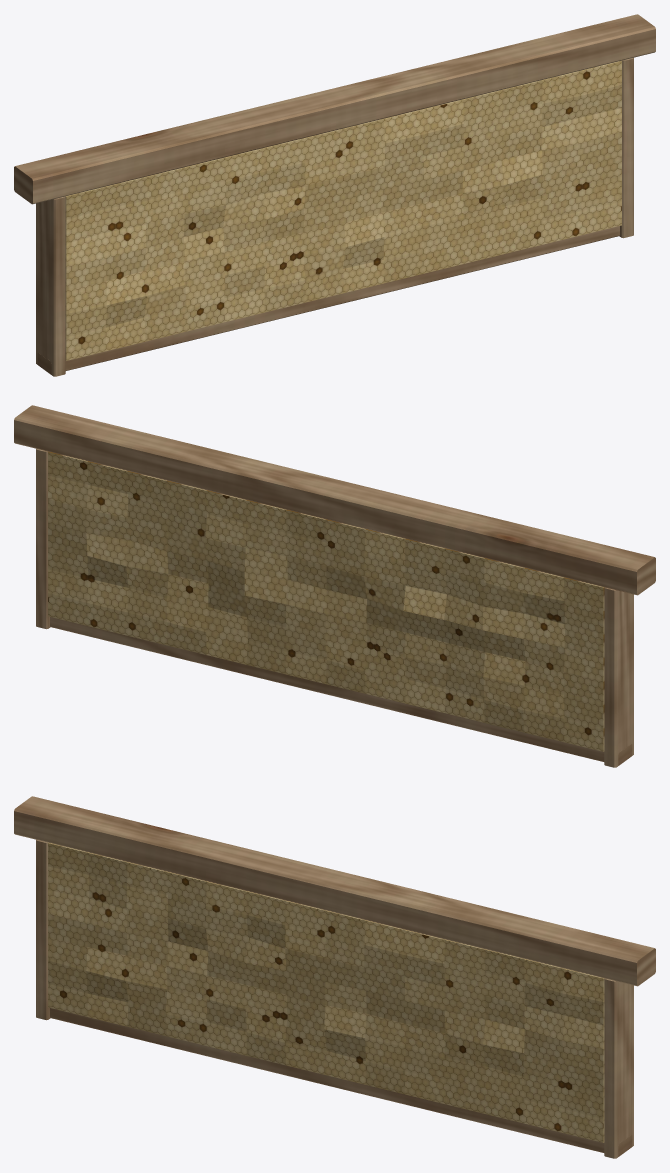
Rendered from cuadro_miel.glb.
3 views of the same model, one above another, from view 1: azimuth 30°, elevation 25°; view 2: azimuth 150°, elevation 25°; view 3: azimuth 330°, elevation 25° (orthographic).
Visible parts, largest first — view 1: CuadroMiel; view 2: CuadroMiel; view 3: CuadroMiel.
Boxes of the visible parts, left/top/right/bottom form: CuadroMiel: left=14, top=14, right=655, bottom=376; CuadroMiel: left=14, top=405, right=655, bottom=767; CuadroMiel: left=14, top=796, right=655, bottom=1158.
Size of the model in its own units: 0.482 by 0.15 by 0.0293.
Materials: 2 (2 with a texture image).
